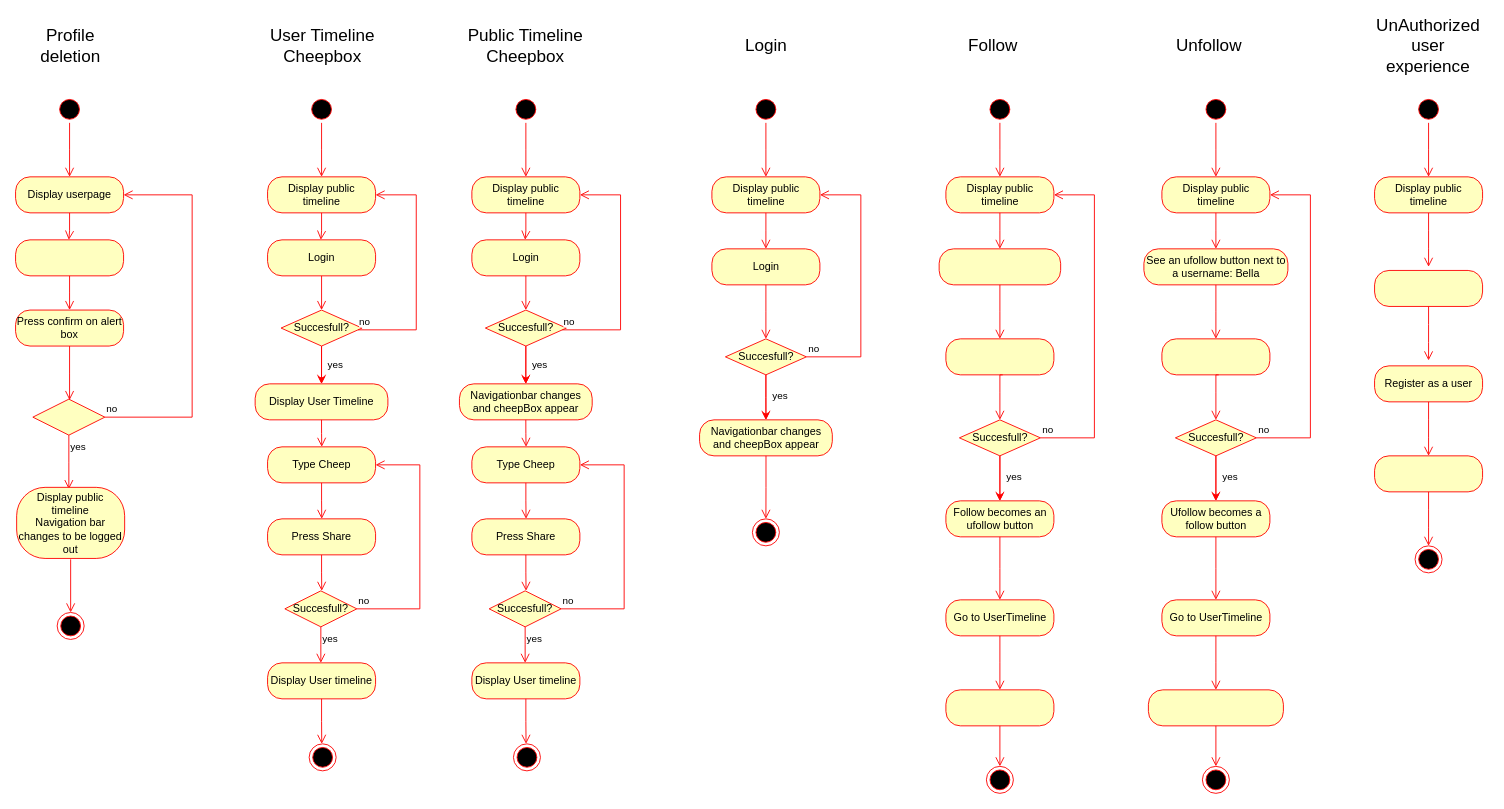
Some shapes in this 1504 by 809 pixel diagram are drawn without their labels. Here are the shapes that lost their labels. From the top down, the centre of each, then its label:
At (69,257): "Press the red Forget Me button".
At (999,266): "See a follow button next to a username: Bella".
At (1428,288): "See all cheeps".
At (999,356): "Follow Bella".
At (1215,356): "Unfollow Bella".
At (68,416): "Condition".
At (1428,473): "Authenticate with github to register".
At (999,707): "See own cheeps and Bella's cheeps".
At (1215,707): "See own cheeps and none of Bella's cheeps".
